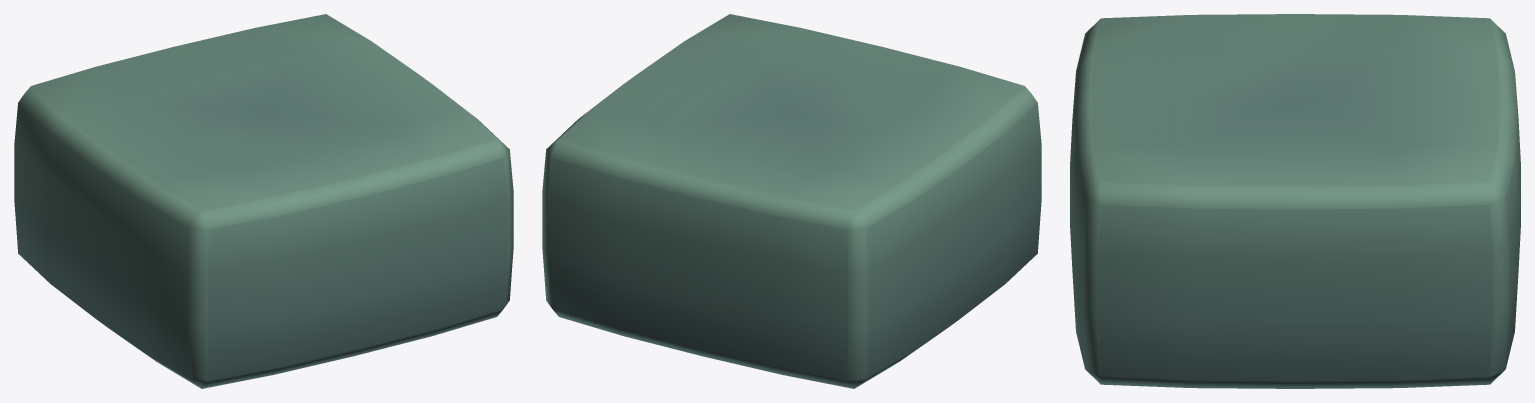
File: cube_06_shade_1_LOD_setup.fbx
3 renders of one model, left to right at view 1: azimuth 30°, elevation 25°; view 2: azimuth 150°, elevation 25°; view 3: azimuth 270°, elevation 25°, orthographic. The views are drawn at different scales.
Visible parts, largest first — view 1: cube_06_shade_1_LOD0; view 2: cube_06_shade_1_LOD0; view 3: cube_06_shade_1_LOD0.
Part boxes in pixels (<box>): cube_06_shade_1_LOD0: <box>14,14,513,388</box>; cube_06_shade_1_LOD0: <box>542,14,1041,388</box>; cube_06_shade_1_LOD0: <box>1070,14,1520,388</box>.
Size of what is drawn, in the model's own units: 219 by 108 by 218.
